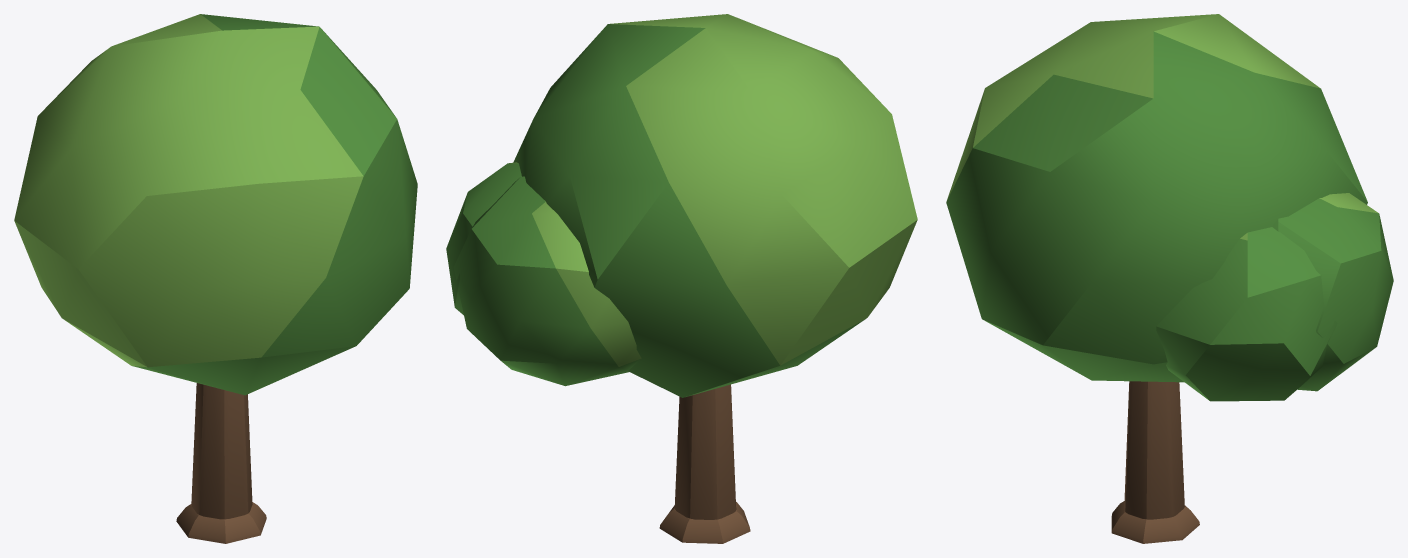
The model's file is RoundTree_A.fbx.
3 renders of one model, left to right at view 1: azimuth 30°, elevation 25°; view 2: azimuth 150°, elevation 25°; view 3: azimuth 270°, elevation 25°, orthographic.
Visible parts, largest first — view 1: RoundTree_A; view 2: RoundTree_A; view 3: RoundTree_A.
Part boxes in pixels (<box>): RoundTree_A: <box>14,14,417,543</box>; RoundTree_A: <box>446,14,917,543</box>; RoundTree_A: <box>946,14,1393,543</box>.
Size of the model in its own units: 2.59 by 3.29 by 2.7.
